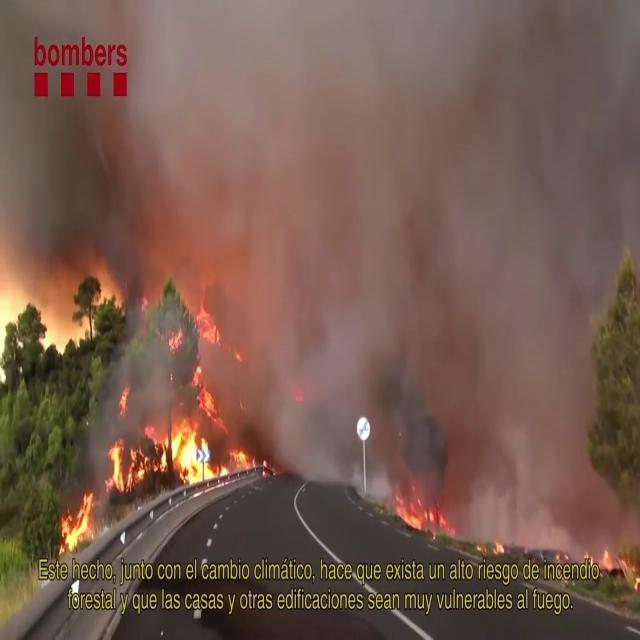Fire: (105, 412, 242, 489), (394, 490, 447, 542), (58, 487, 98, 555)
Smoke: (11, 1, 638, 507)
